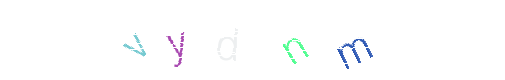D: (212, 0, 292, 80)
M: (314, 0, 394, 80)
N: (254, 0, 334, 80)
V: (138, 0, 218, 80)
Y: (146, 0, 226, 80)
